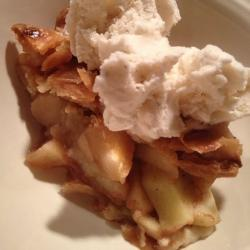apple_pie: (9, 28, 227, 247)
chantilly: (87, 21, 250, 146)
